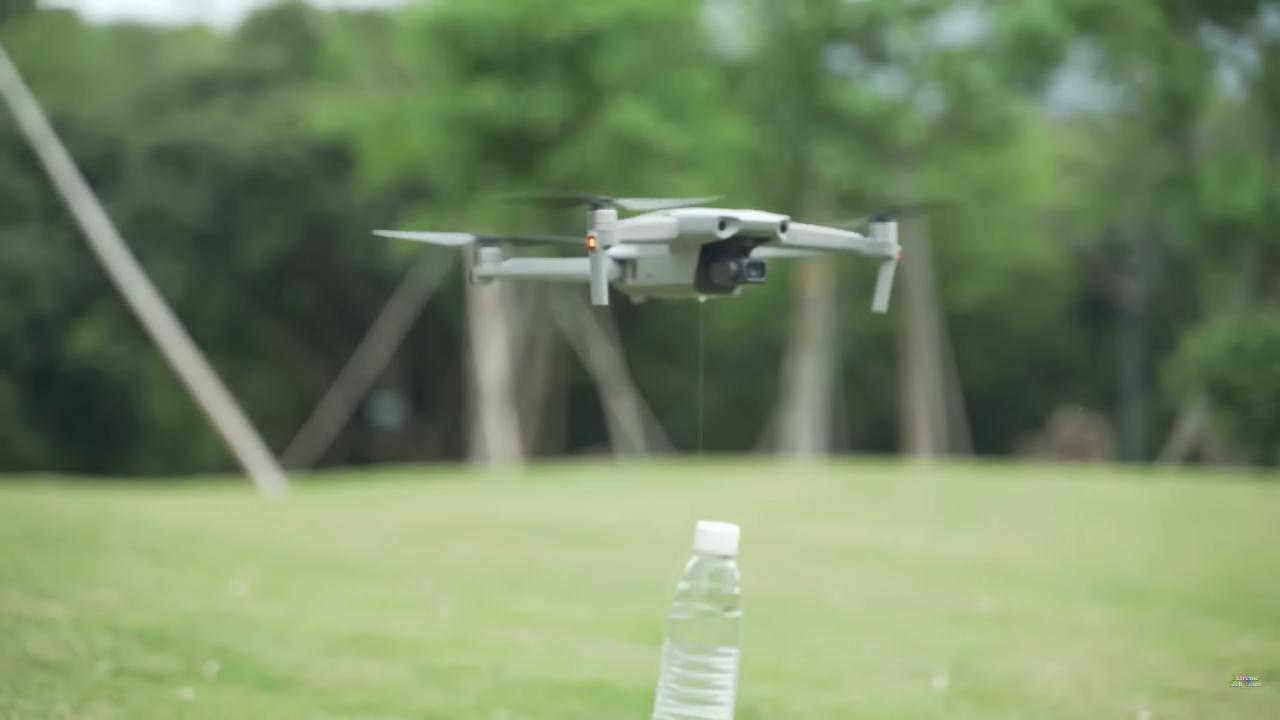Drone: (344, 172, 983, 333)
